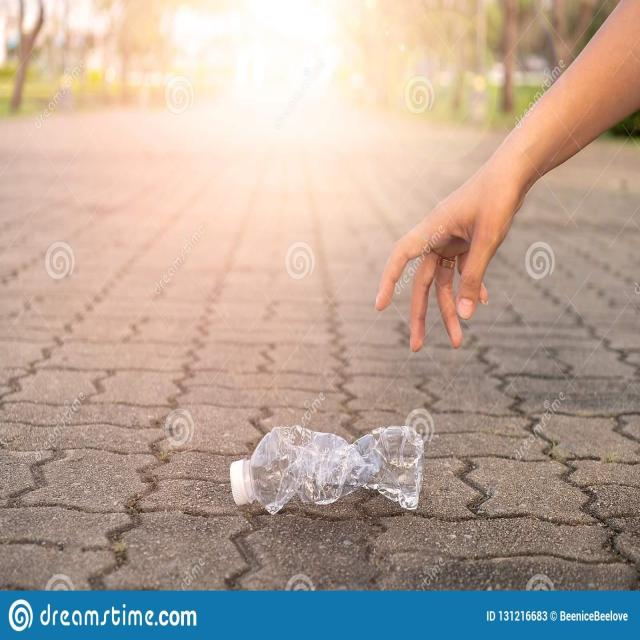bottle: (223, 401, 434, 532)
